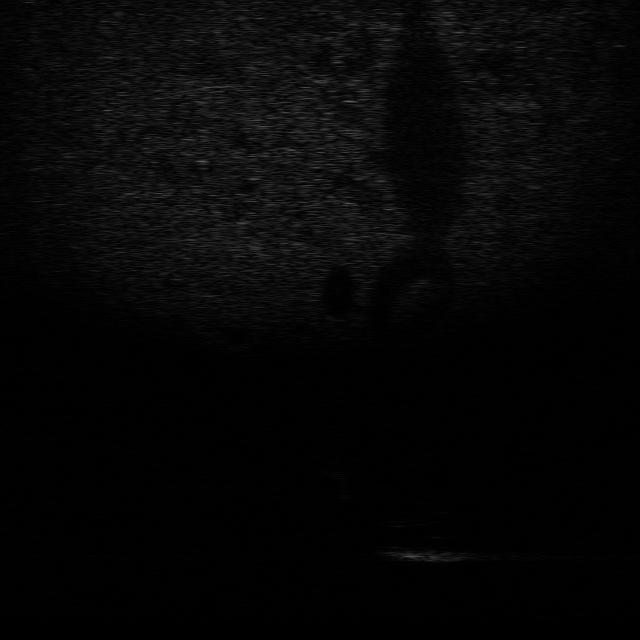ball: (315, 448, 363, 479)
metal bucket: (374, 538, 481, 567)
tyre: (374, 494, 448, 531)
